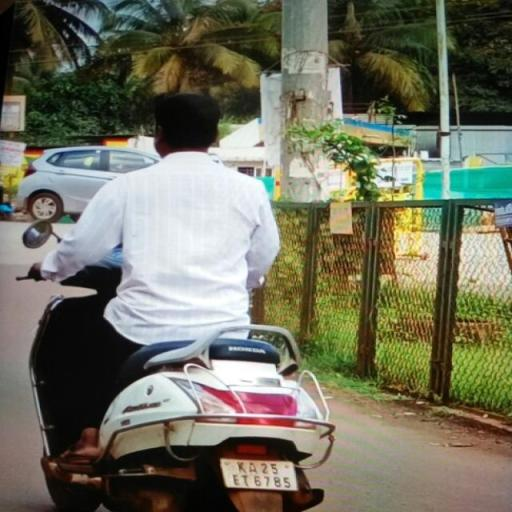bike: (8, 83, 345, 512)
numberplate: (221, 458, 300, 490)
withouthelmet: (155, 96, 223, 152)
